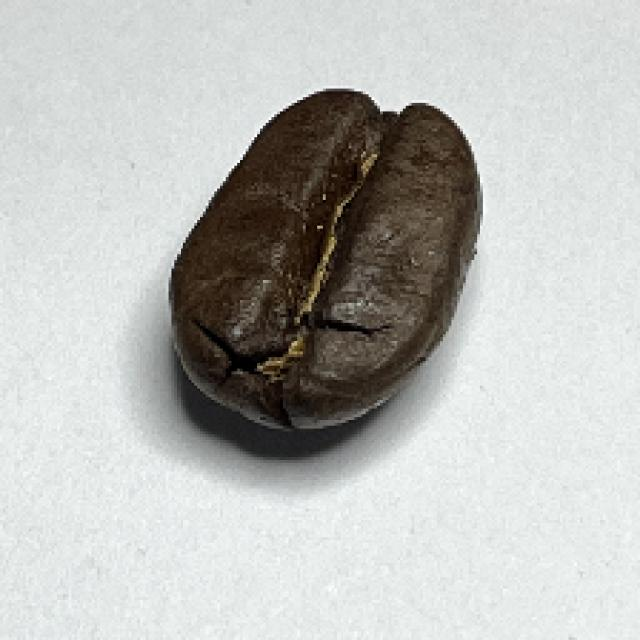bean: (163, 84, 488, 438)
